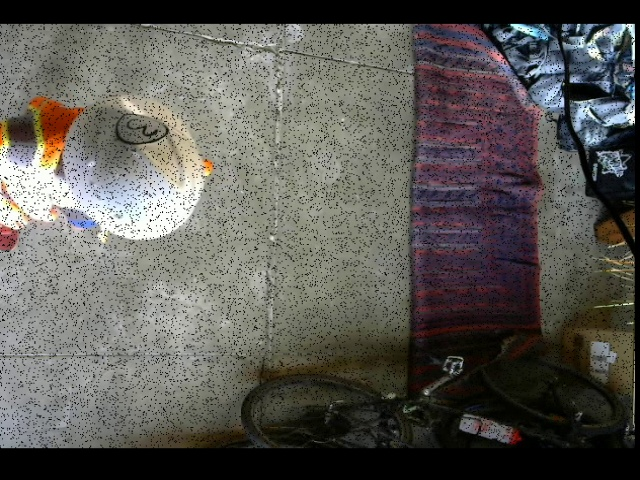three: (117, 113, 169, 145)
